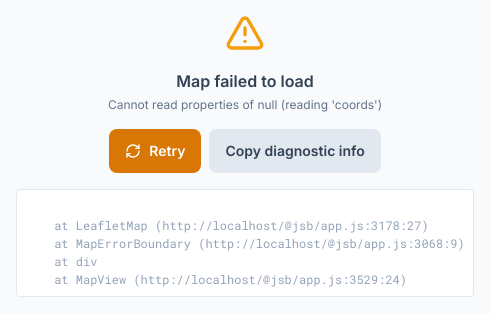
Test case: MapView — error boundary diagnostics (self-service reporting, no DevTools required) › a genuine crash shows the component stack and a working "Copy diagnostic info" button
expect the text "Map failed to load" is shown: met, box [176,71,314,91]
Click the button "Copy diagnostic info". click: (295, 151)
box: [210,129,381,173]
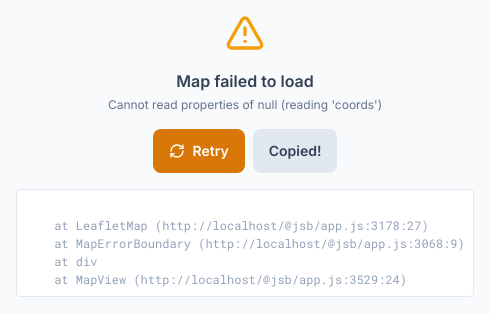
expect the button "Copied!" is shown: met, box [253,129,338,173]
